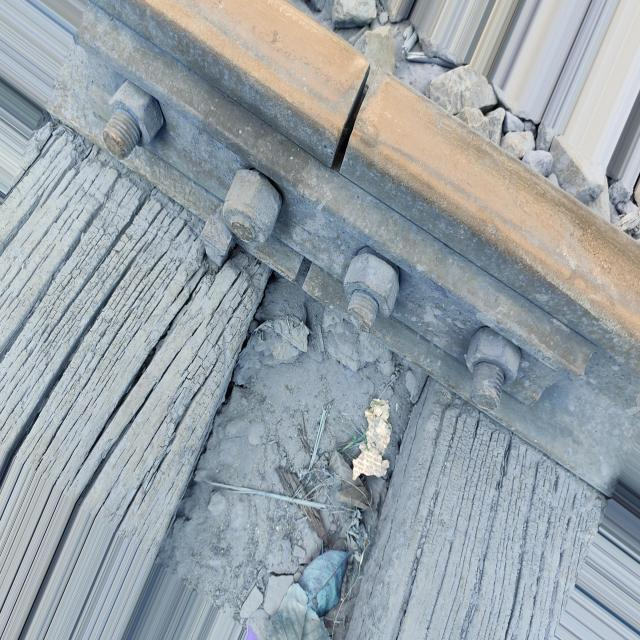Good Joint: (46, 0, 640, 491)
